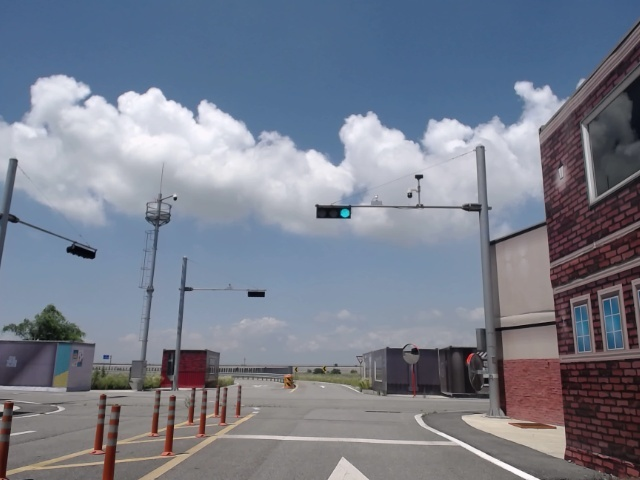green_3: (318, 207, 350, 218)
